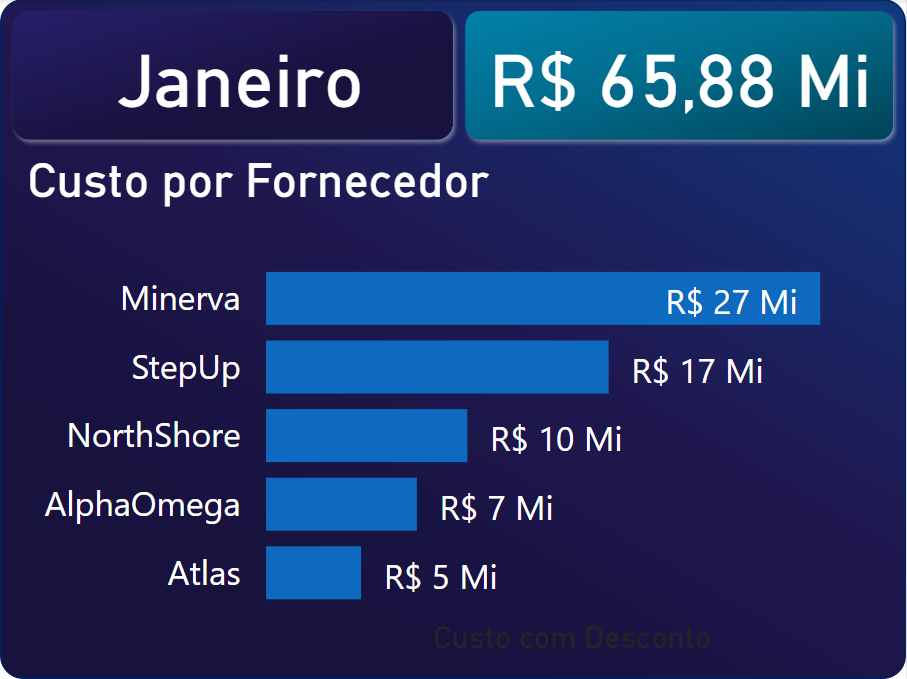

The dashboard page shown, as its layout file describes it:
{"tool":"powerbi","page":{"name":"Tootip","canvas":[320,240],"ordinal":1},"visuals":[{"type":"card","fields":{"Values":["fCompras.Custo com Desconto"]},"box":[165.3,5.3,149.9,44.5],"z":0},{"type":"card","fields":{"Values":["fCompras.Mês Selecionado"]},"box":[10.1,5.3,149.9,44.5],"z":1},{"type":"barChart","title":"Custo por Fornecedor","fields":{"Y":["fCompras.Custo com Desconto"],"Category":["dFornecedor.Nome Fornecedor"]},"box":[4.8,54,310.5,182.3],"z":2}]}

Visuals, with their boxes in screenshot pixels (x1, y1, x2, y2), scaled from the page's 320x240 canvas onto the 907x679 screenshot:
card - fCompras.Custo com Desconto: <box>469,15,893,141</box>
card - fCompras.Mês Selecionado: <box>29,15,454,141</box>
"Custo por Fornecedor" barChart: <box>14,153,894,669</box>
